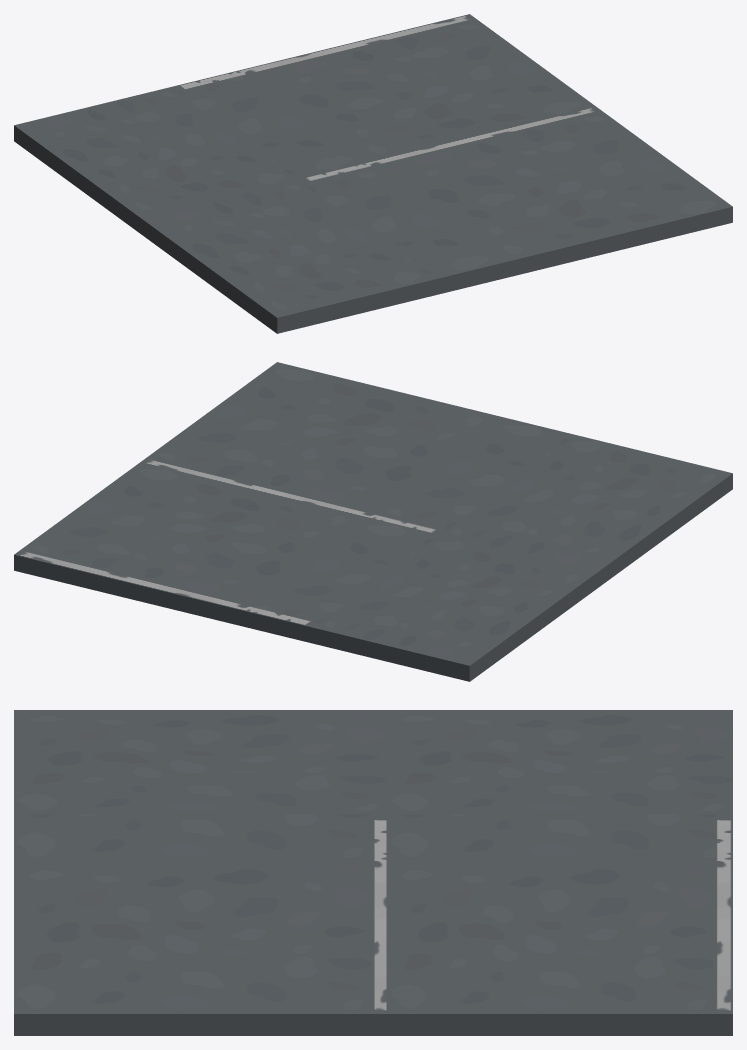
File: Floor_A01.fbx
The picture shows the model from 3 angles, top to bottom: view 1: azimuth 30°, elevation 25°; view 2: azimuth 150°, elevation 25°; view 3: azimuth 270°, elevation 25°; orthographic projection. The views are drawn at different scales.
Visible parts, largest first — view 1: Floor_A01; view 2: Floor_A01; view 3: Floor_A01.
Part boxes in pixels (x1,y1,x2,y2): Floor_A01: (14, 14, 732, 333); Floor_A01: (14, 362, 732, 681); Floor_A01: (14, 710, 732, 1035).
Size of the model in its own units: 600 by 20.11 by 600.
Materials: 1 (1 with a texture image).
